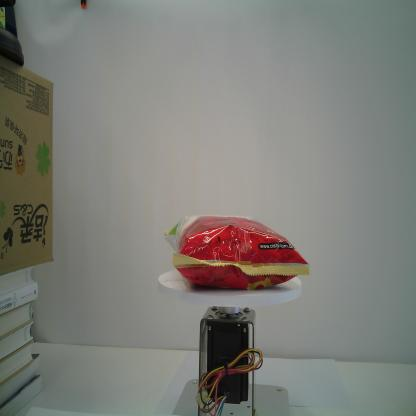Puffed Food: (162, 213, 312, 290)
